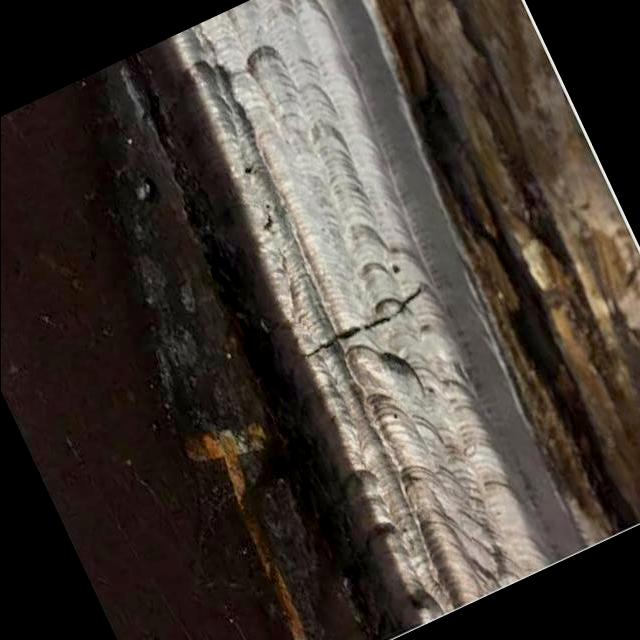defect: (299, 285, 424, 362)
